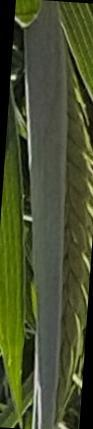Wheat: (33, 125, 66, 429), (28, 5, 68, 121), (3, 135, 23, 364)
